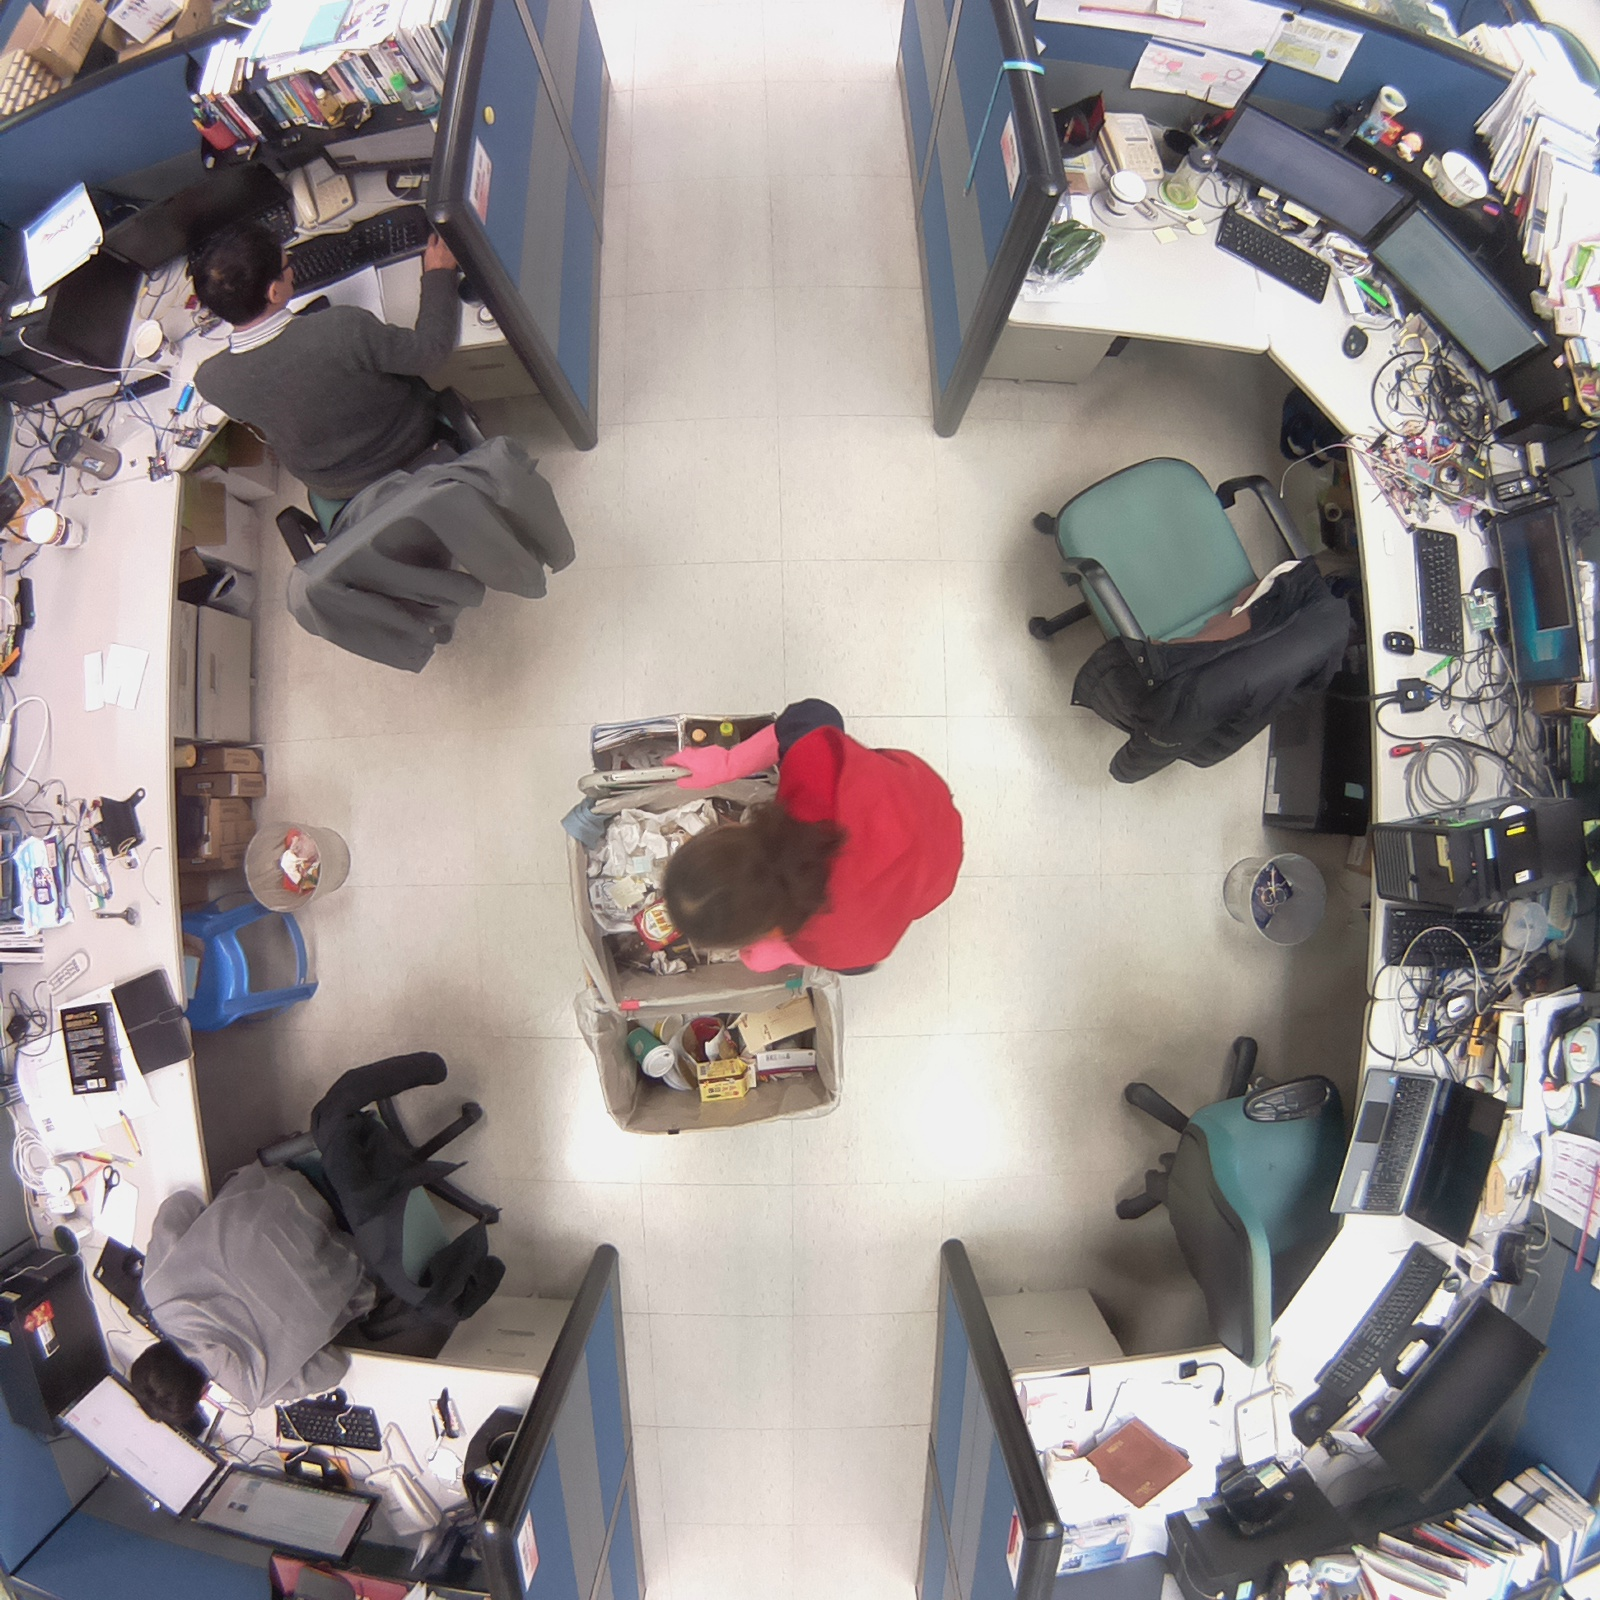chair: (1014, 440, 1360, 806), (1073, 1019, 1368, 1391)
head: (653, 802, 825, 957), (185, 208, 300, 325), (119, 1338, 212, 1436)
sitting: (164, 198, 586, 683), (127, 1032, 522, 1432)
standing: (639, 694, 973, 1009)
